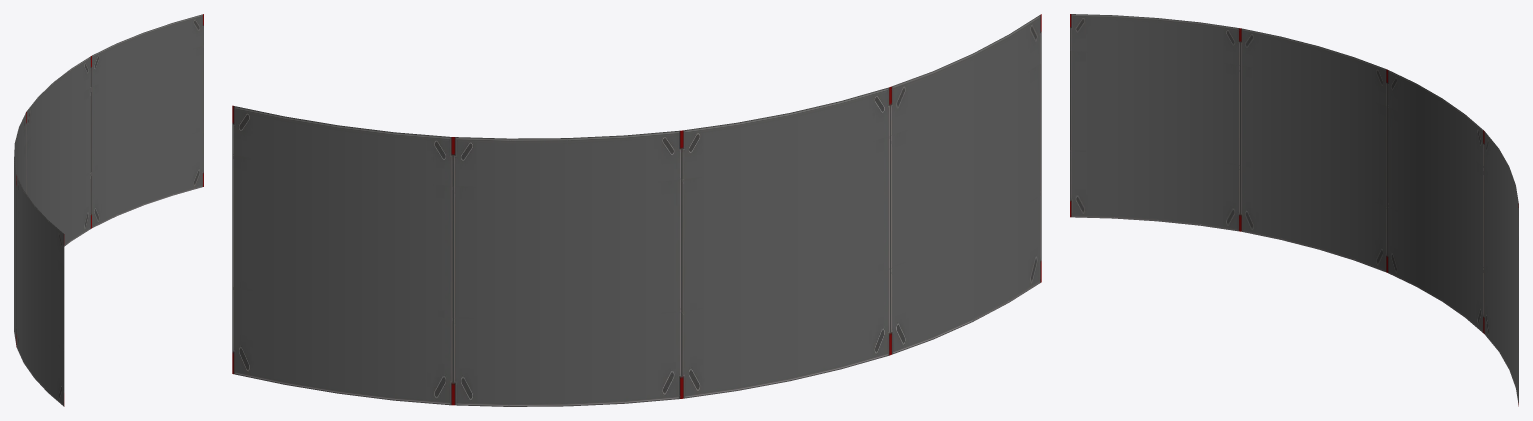
File: TopSimple_Corner_Round_Outer.glb
3 renders of one model, left to right at view 1: azimuth 30°, elevation 25°; view 2: azimuth 150°, elevation 25°; view 3: azimuth 270°, elevation 25°, orthographic. The views are drawn at different scales.
Parts seen in each view (by area): view 1: TopSimple_Corner_Round_Outer; view 2: TopSimple_Corner_Round_Outer; view 3: TopSimple_Corner_Round_Outer.
Part boxes in pixels (x1=…): TopSimple_Corner_Round_Outer: x1=14, y1=14, x2=203, y2=406; TopSimple_Corner_Round_Outer: x1=232, y1=14, x2=1041, y2=406; TopSimple_Corner_Round_Outer: x1=1070, y1=14, x2=1518, y2=406.
Size of the model in its own units: 4 by 2 by 4.
Materials: 1 (1 with a texture image).
